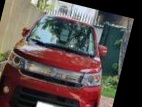car: (0, 5, 117, 107)
